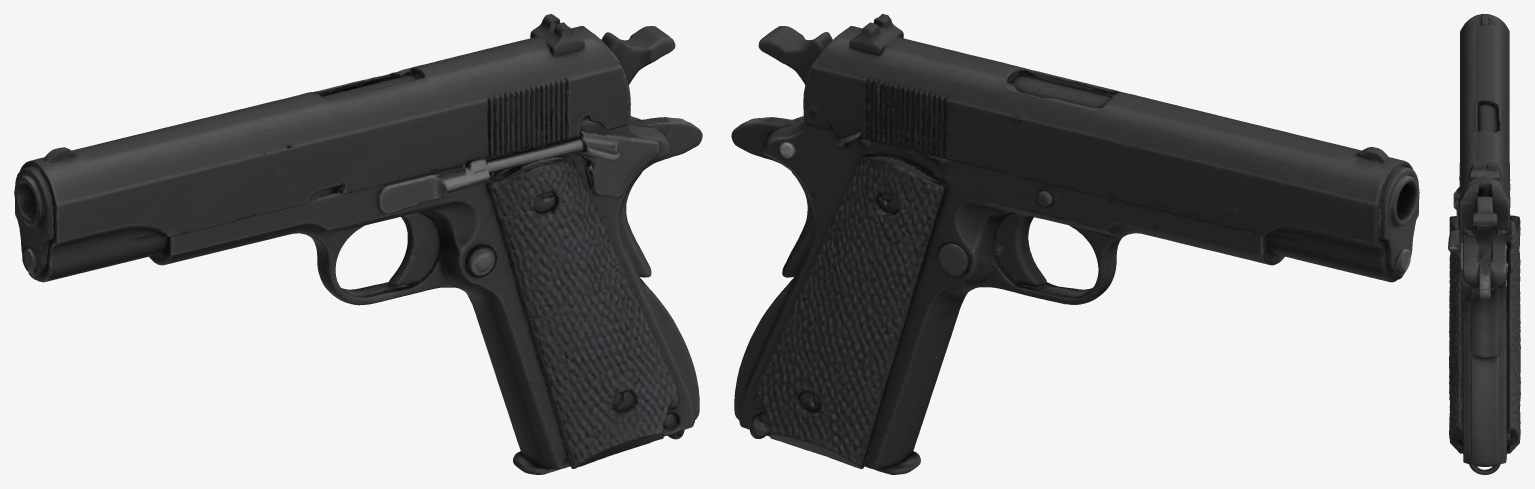
File: pistolet.fbx
The picture shows the model from 3 angles, left to right: view 1: azimuth 30°, elevation 25°; view 2: azimuth 150°, elevation 25°; view 3: azimuth 270°, elevation 25°; orthographic projection. The views are drawn at different scales.
Visible parts, largest first — view 1: Mesh_0; view 2: Mesh_0; view 3: Mesh_0.
Boxes of the visible parts, box(x1,y1,x2,y2) form: Mesh_0: box(14, 14, 702, 474); Mesh_0: box(731, 14, 1419, 474); Mesh_0: box(1448, 14, 1520, 474).
Size of the model in its own units: 192 by 121 by 28.84.
Materials: 1 (1 with a texture image).
